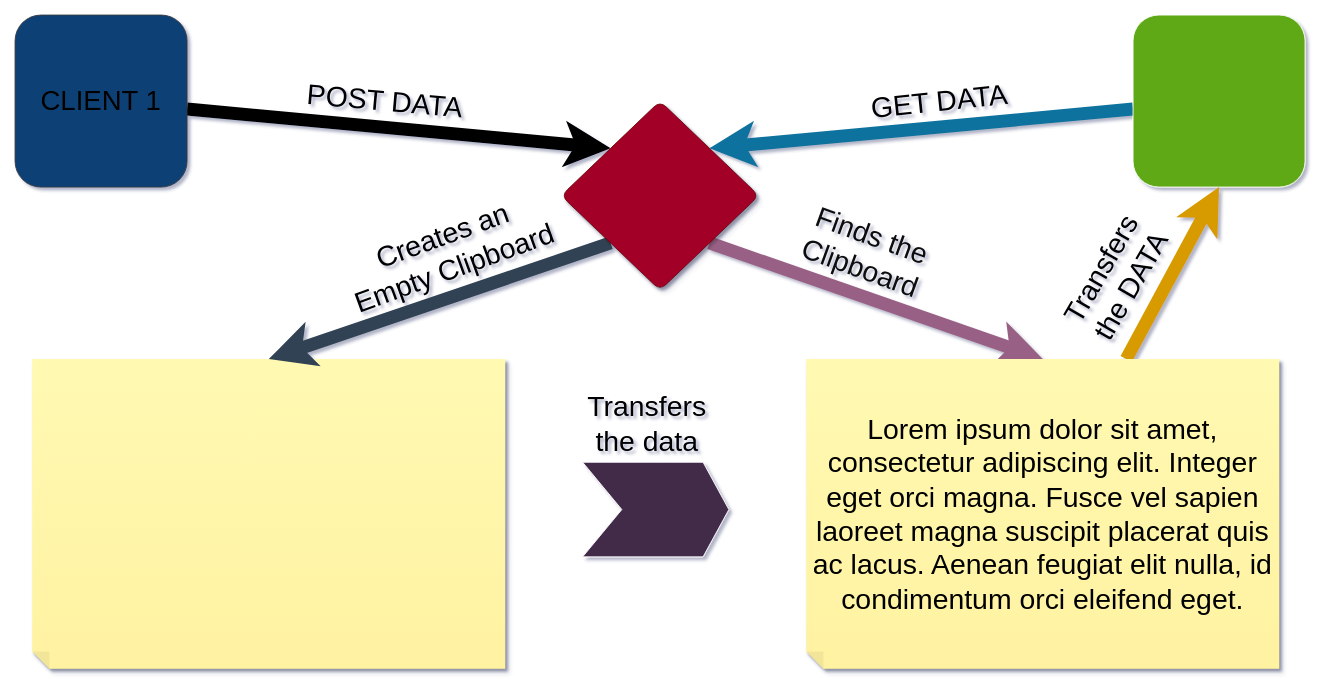
This 1325x695 diagram has some shape labels left out. Here are the shapes that lost their labels. From the top down, the centre of each, then its label:
[1218,100]: CLIENT 2
[660,196]: CL1p.net SERVER
